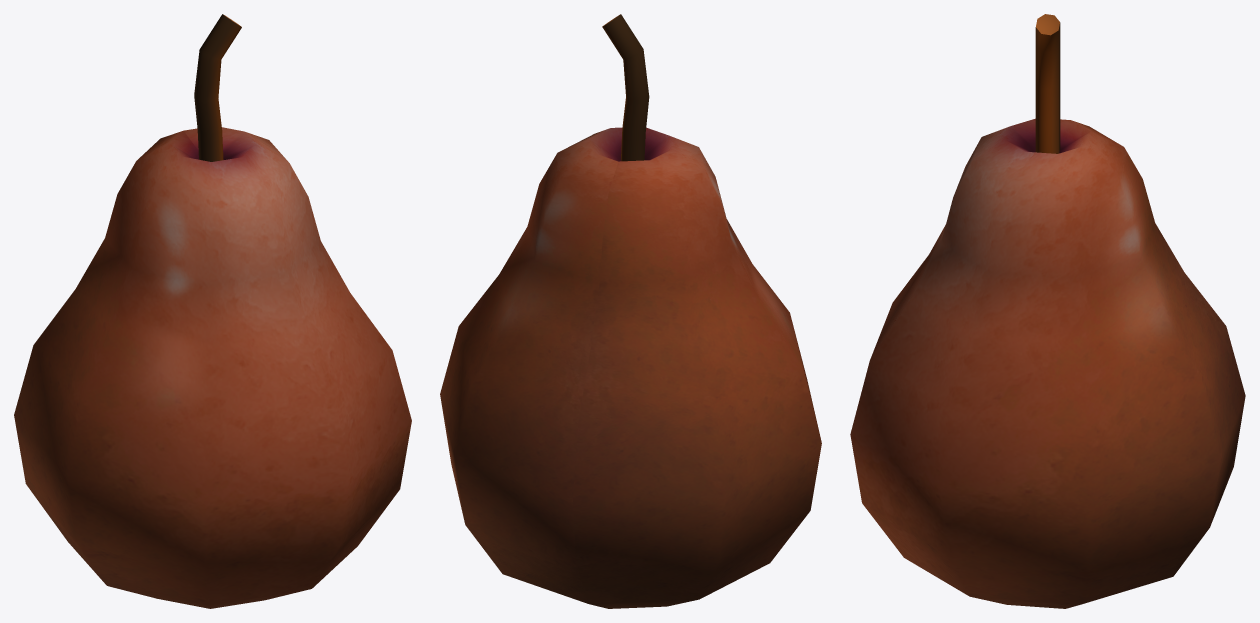
File: Pear_01.fbx
The picture shows the model from 3 angles, left to right: view 1: azimuth 30°, elevation 25°; view 2: azimuth 150°, elevation 25°; view 3: azimuth 270°, elevation 25°; orthographic projection.
Visible parts, largest first — view 1: Pear_01; view 2: Pear_01; view 3: Pear_01.
Part boxes in pixels (left/top/right/bottom): Pear_01: left=14, top=14, right=411, bottom=608; Pear_01: left=440, top=14, right=821, bottom=608; Pear_01: left=850, top=14, right=1245, bottom=608.
Size of the model in its own units: 26.96 by 43.58 by 26.96.
1 material, 1 textured.
